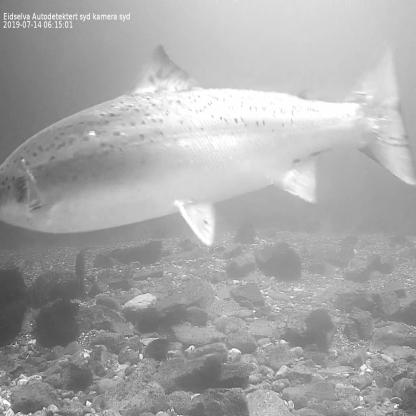salmon: (0, 38, 416, 249)
